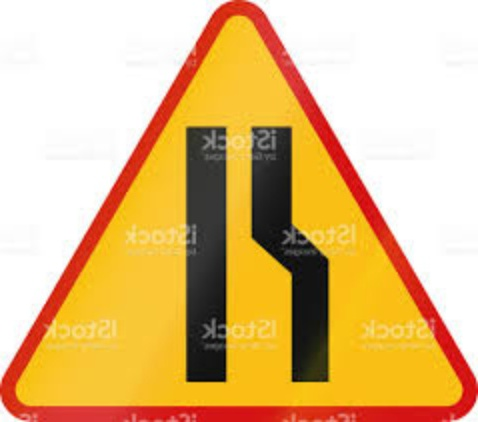Narrow_road: (3, 2, 477, 418)
